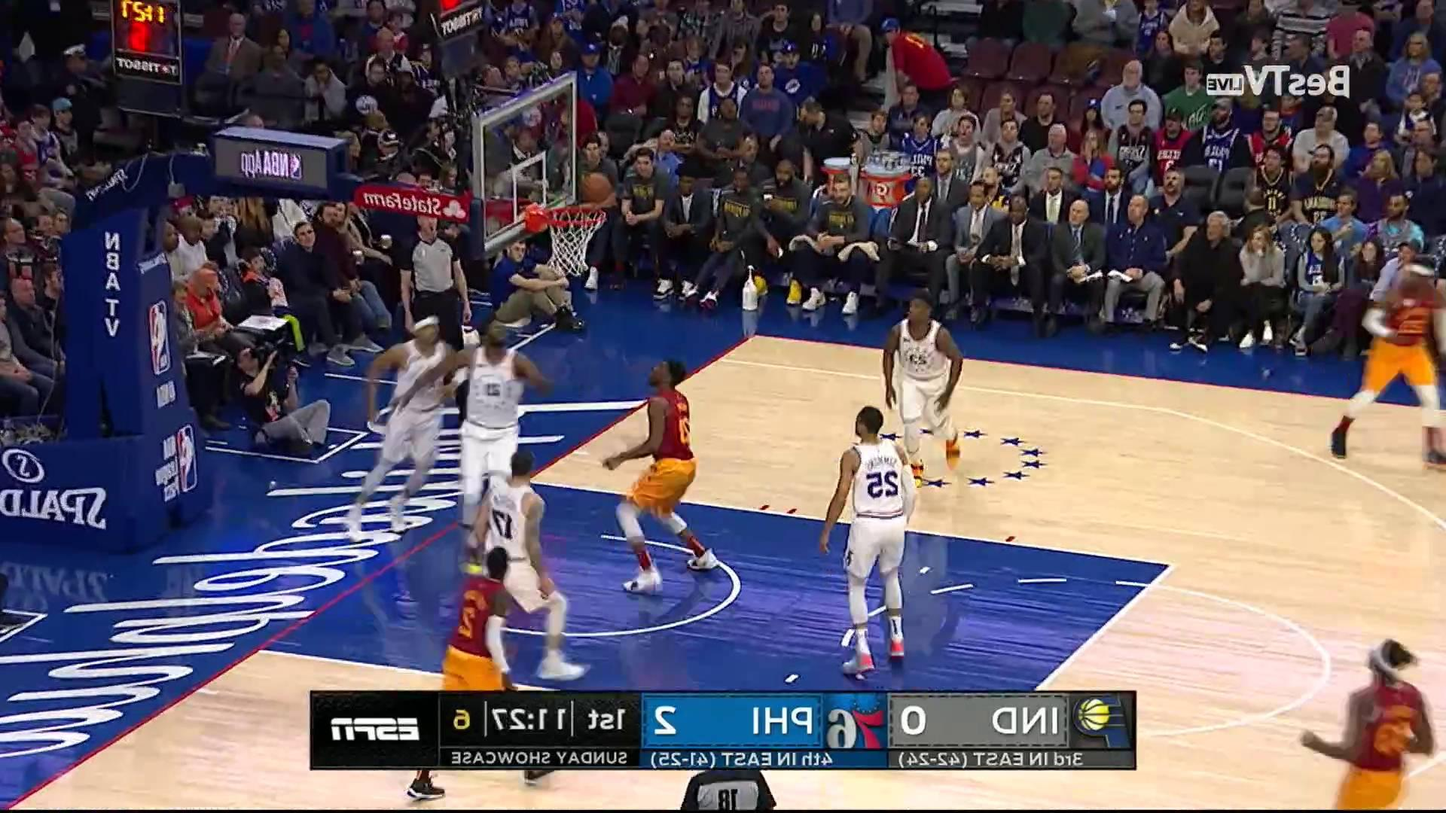basketball: (581, 172, 611, 204)
